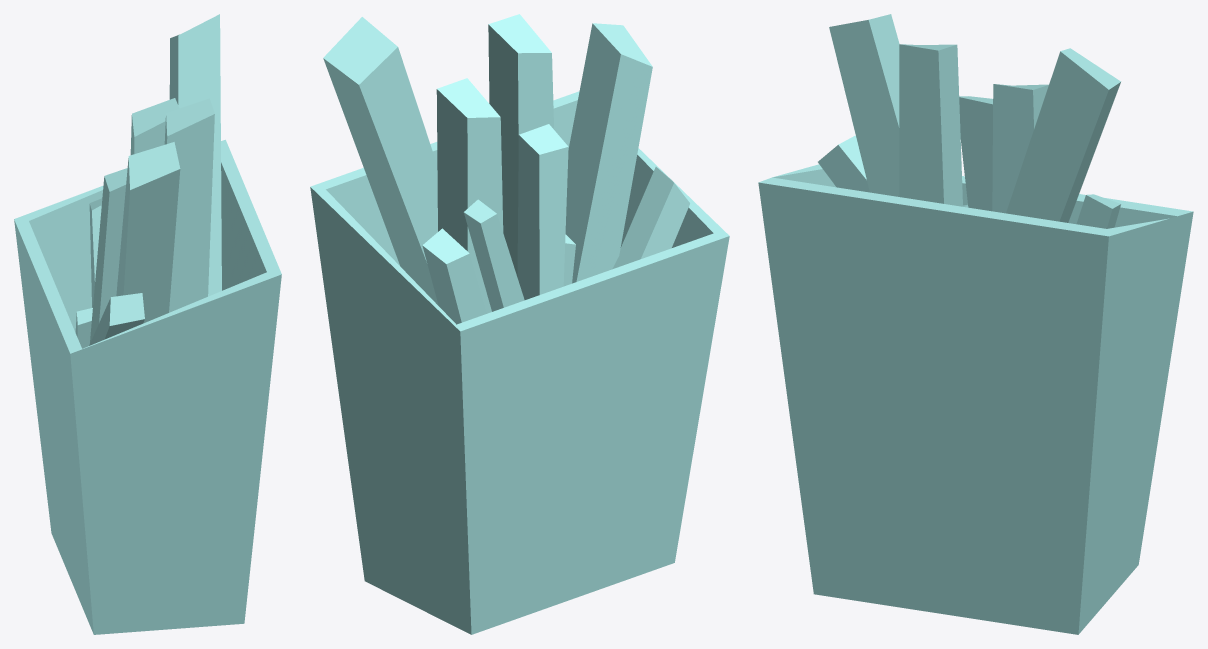
File: FryWBox.fbx
3 renders of one model, left to right at view 1: azimuth 30°, elevation 25°; view 2: azimuth 150°, elevation 25°; view 3: azimuth 270°, elevation 25°, orthographic. The views are drawn at different scales.
Visible parts, largest first — view 1: frybox, fries; view 2: frybox, fries; view 3: frybox, fries.
Boxes of the visible parts, x1,y1,x2,y2 form: frybox: (14, 139, 281, 634); fries: (75, 14, 221, 348); frybox: (310, 91, 729, 634); fries: (323, 14, 689, 324); frybox: (758, 164, 1193, 634); fries: (818, 14, 1120, 228).
Bounding box in the file's own units: 15.57 × 28.09 × 18.81.
